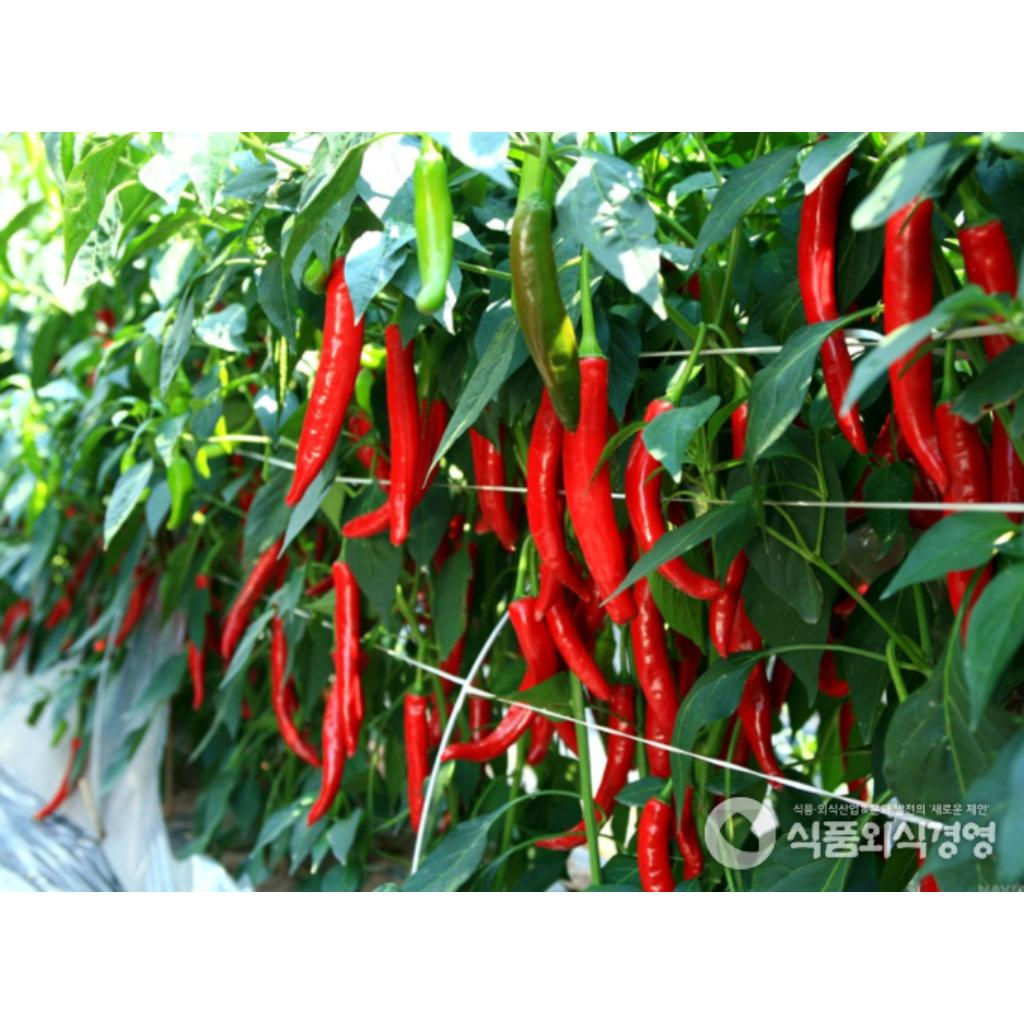chili: (286, 258, 364, 505), (564, 356, 628, 599), (528, 390, 590, 598), (888, 350, 950, 493), (798, 156, 851, 323), (630, 578, 680, 743), (385, 321, 420, 545), (884, 200, 932, 333), (334, 562, 364, 755), (820, 330, 866, 453), (626, 434, 666, 551), (594, 734, 634, 823), (407, 694, 430, 831), (660, 560, 720, 599), (536, 820, 586, 849), (610, 684, 634, 733), (606, 590, 636, 624), (644, 400, 672, 421)
